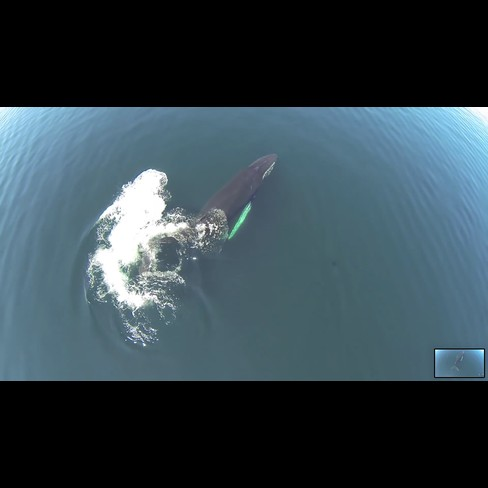hump: (120, 145, 286, 313)
